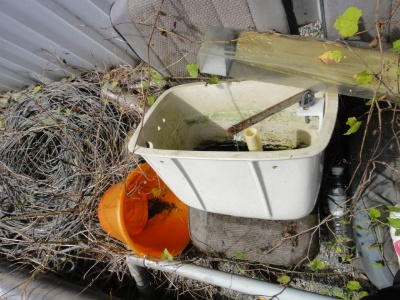box: (127, 78, 341, 223)
bucket: (97, 161, 195, 261)
